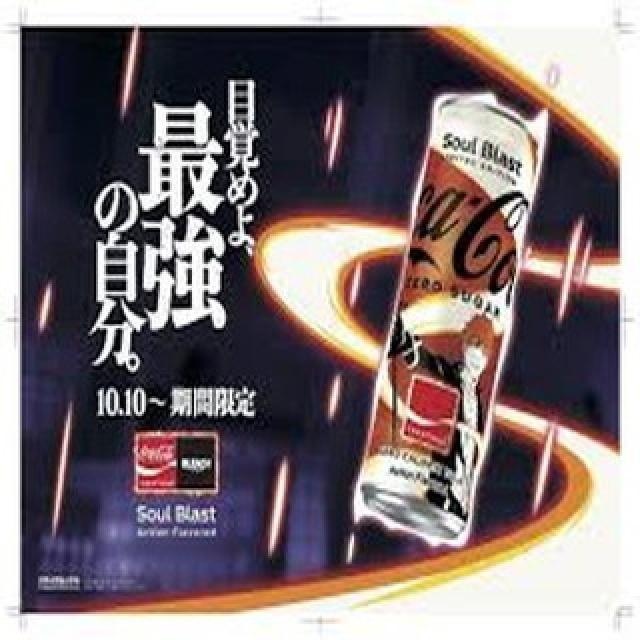recyclable: (360, 96, 542, 540)
